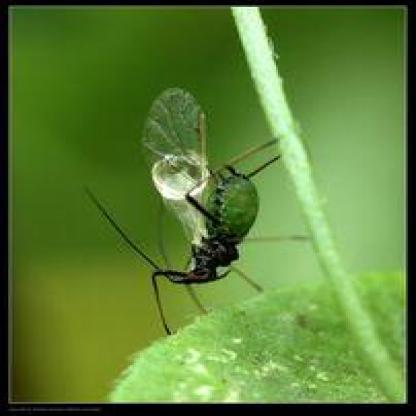aphid: (86, 76, 288, 321)
